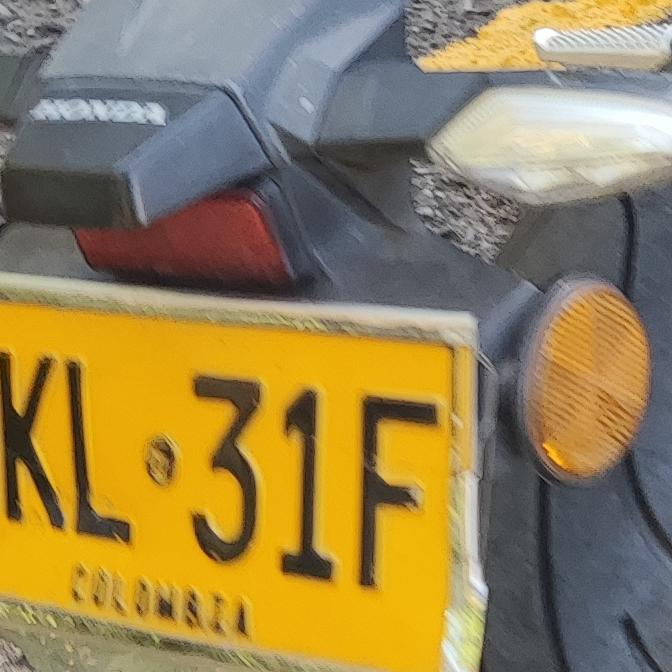plates: (0, 280, 465, 672)
